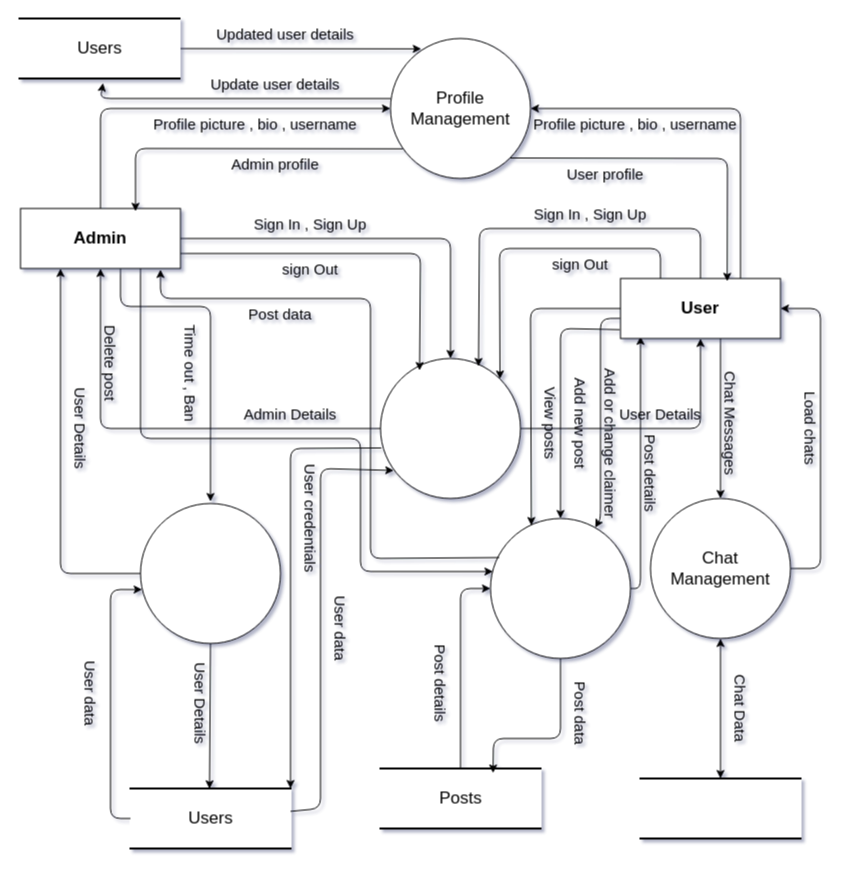
The diagram is 852 pixels wide and 872 high, and some of its shapes have lost their labels. Here are the shapes that lost their labels. From the top down, the centre of each, then its label:
At point (450, 428): "User Authentication".
At point (210, 573): "User Management".
At point (560, 588): "Post management".
At point (720, 808): "chats".
